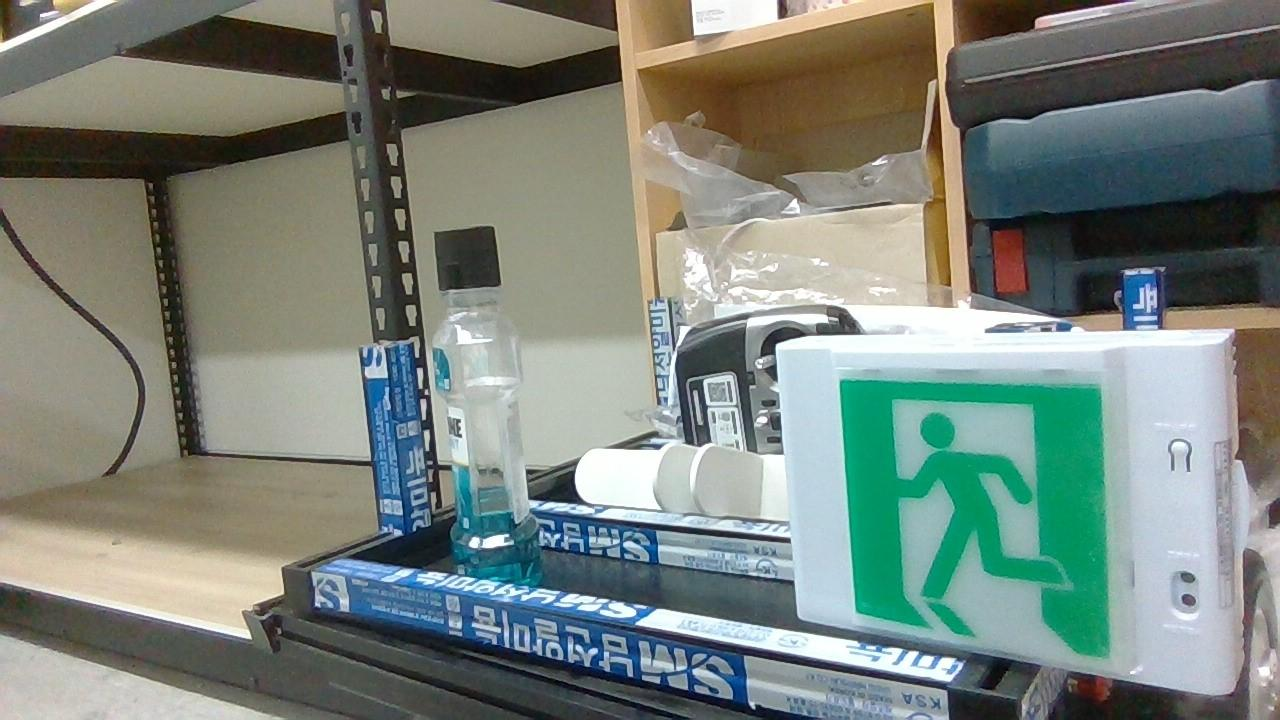emergency_exit: (774, 327, 1246, 697)
